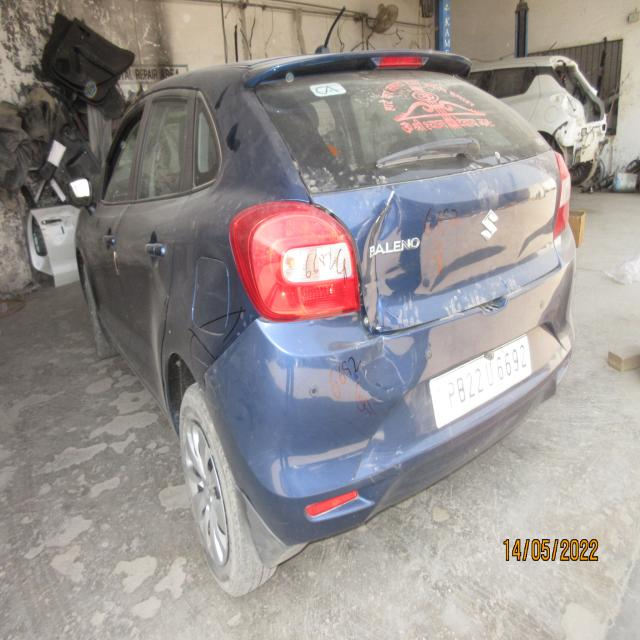damage: (355, 188, 419, 328), (326, 332, 424, 399), (197, 314, 258, 389), (390, 442, 414, 476)
